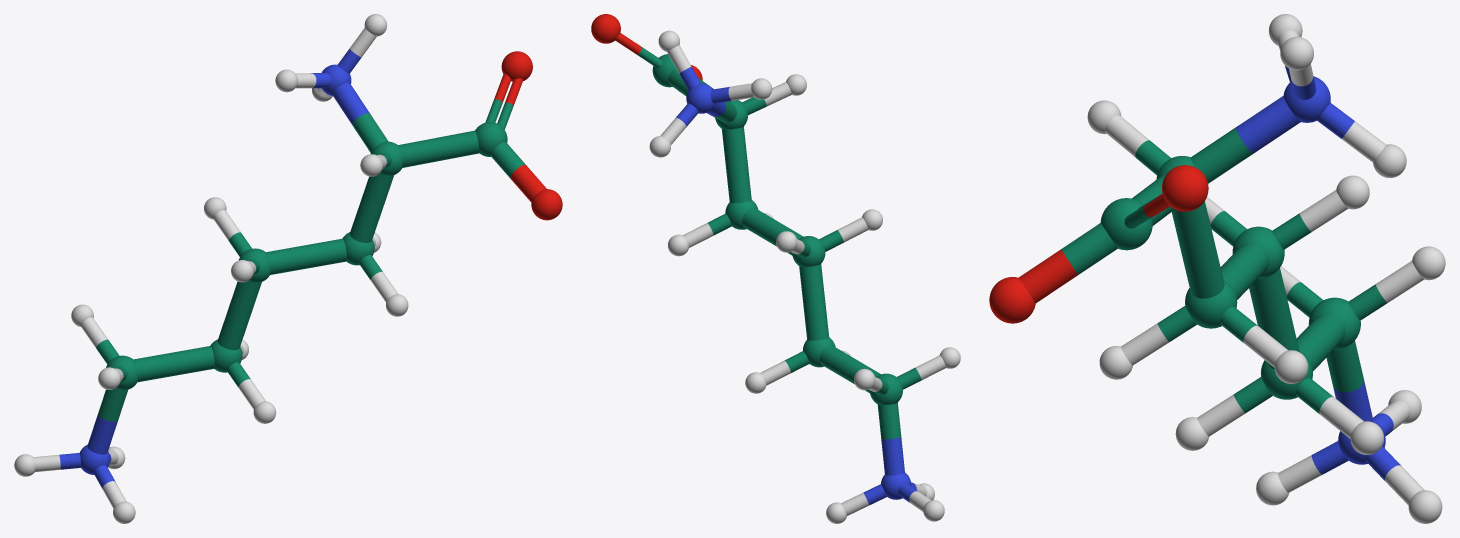
Rendered from LYS.PDB.glb.
The picture shows the model from 3 angles, left to right: view 1: azimuth 30°, elevation 25°; view 2: azimuth 150°, elevation 25°; view 3: azimuth 270°, elevation 25°; orthographic projection. The views are drawn at different scales.
Size of the model in its own units: 7.42 by 7.05 by 4.45.
